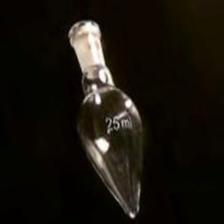Pear shaped flask: (67, 13, 151, 217)
